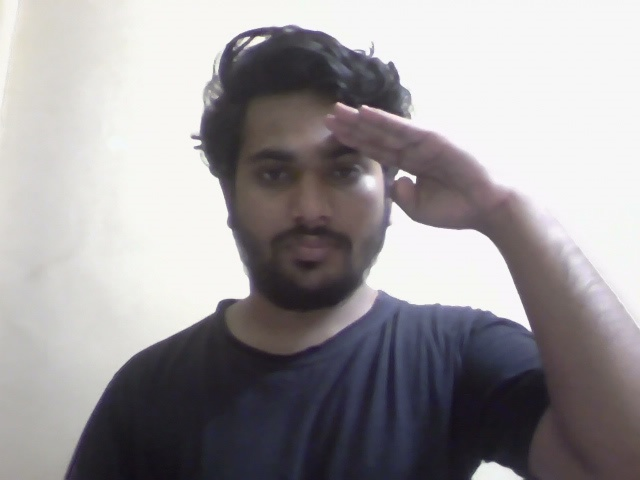hello: (182, 11, 510, 328)
